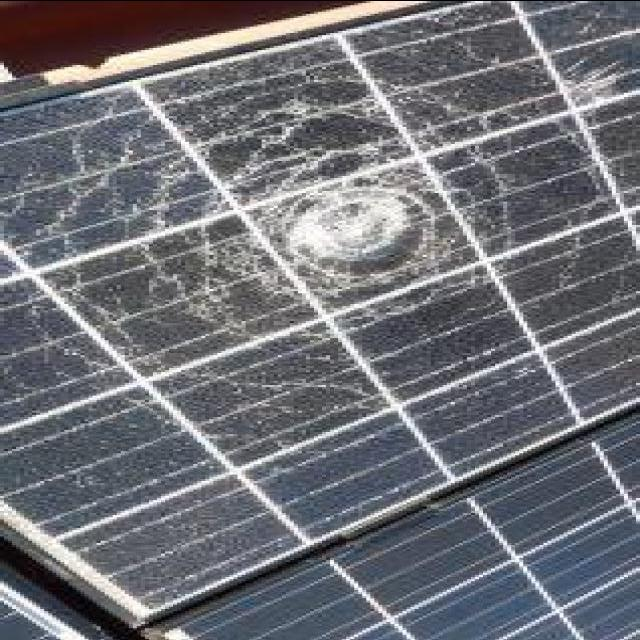cracked: (0, 11, 636, 626)
